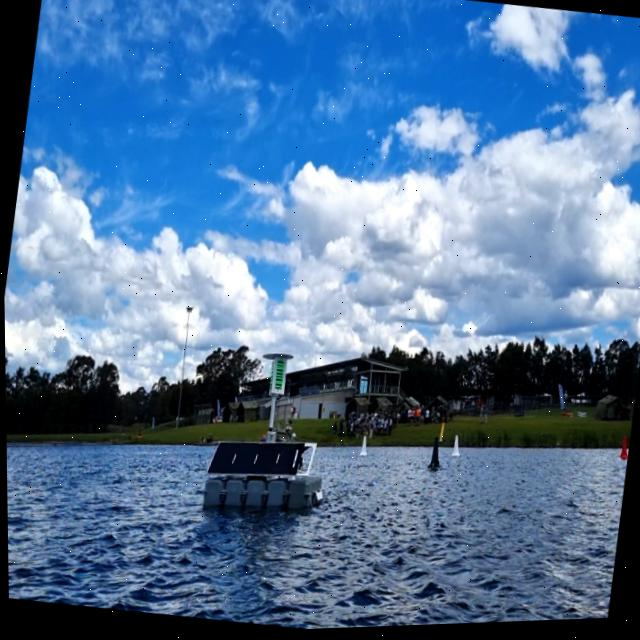led: (270, 359, 287, 395)
